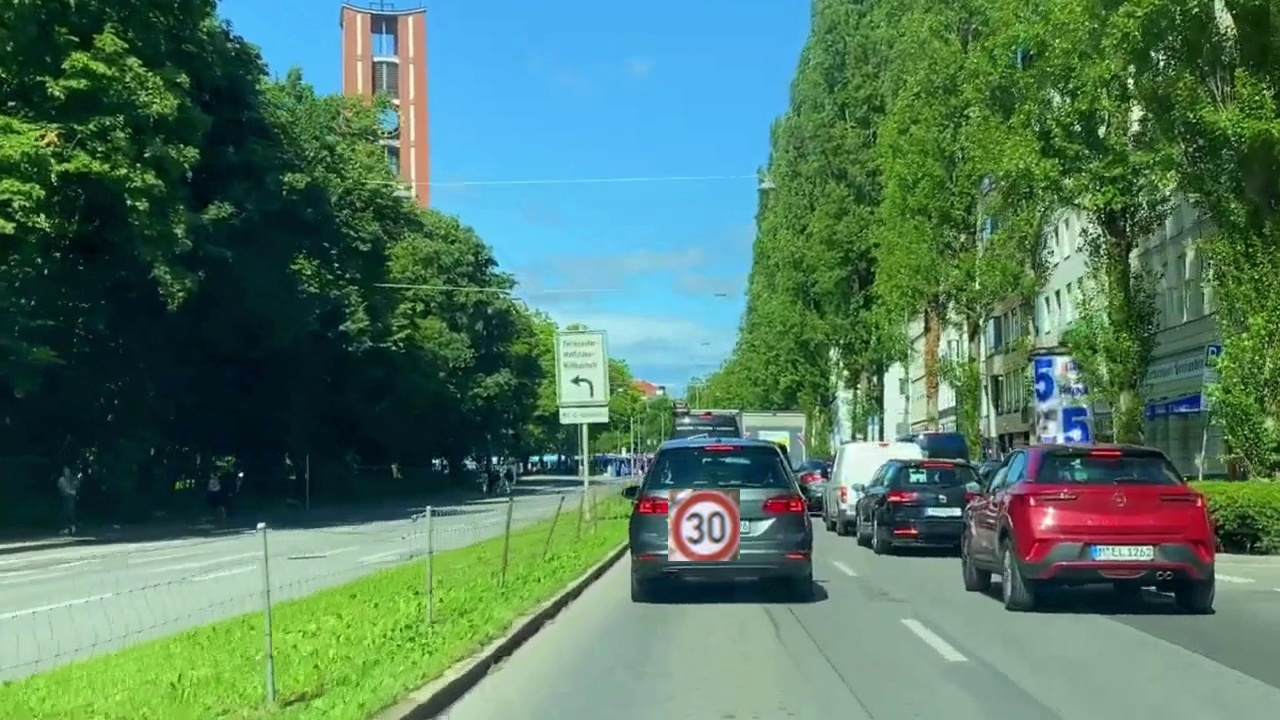Speed 30: (668, 489, 740, 561)
